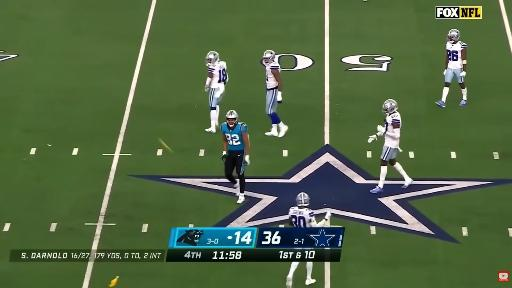Helmet: (383, 99, 397, 114), (206, 51, 219, 66), (226, 110, 238, 126), (296, 192, 309, 206), (263, 50, 275, 65), (448, 29, 459, 42)
Jersey: (221, 123, 247, 151), (446, 41, 466, 69), (289, 207, 315, 227), (208, 61, 227, 88), (266, 62, 280, 89), (385, 111, 401, 132)
Player: (368, 99, 413, 193), (221, 110, 250, 203), (436, 29, 466, 107), (263, 50, 288, 137), (205, 51, 228, 132), (289, 192, 330, 227)
